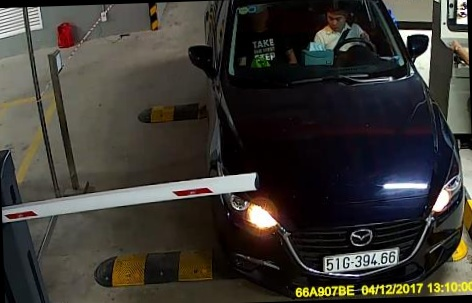plate: (322, 245, 397, 280)
